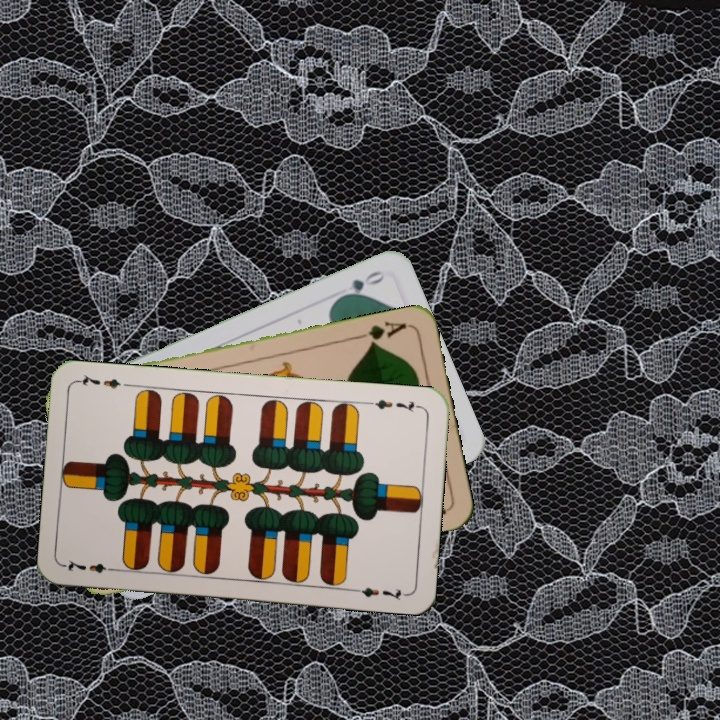E7: (61, 555, 120, 576), (364, 395, 424, 414)
GA: (352, 317, 409, 349)
GO: (334, 266, 387, 302)
